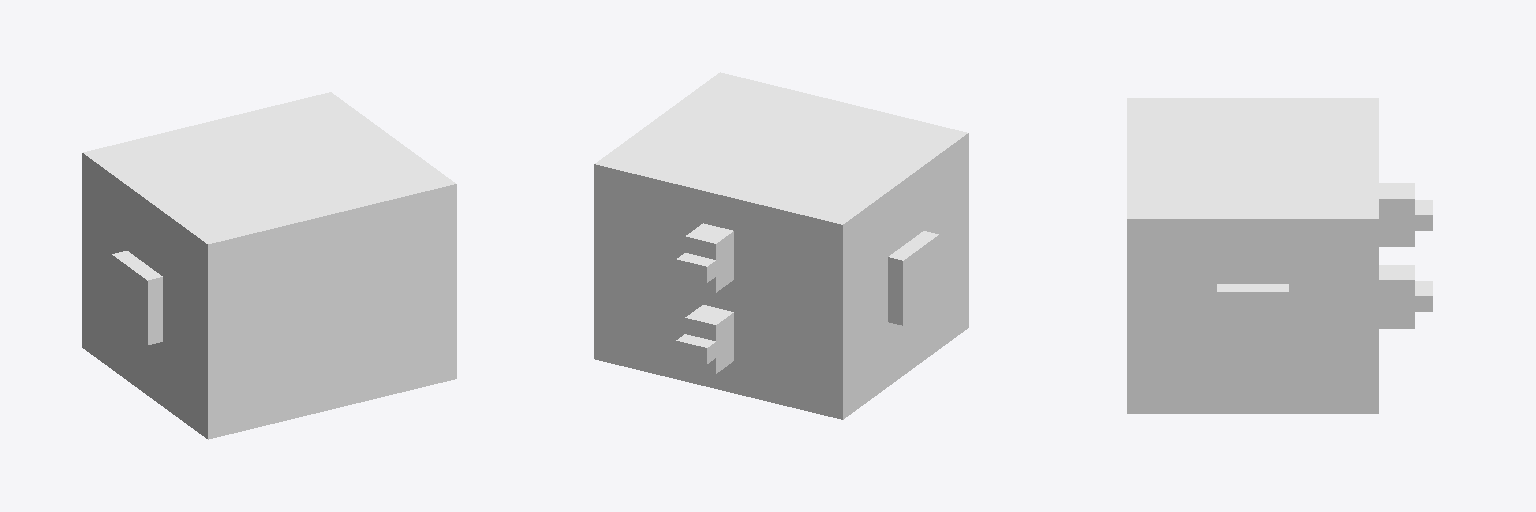
The model's file is Dragon_large-1.obj.
The picture shows the model from 3 angles: view 1: azimuth 30°, elevation 25°; view 2: azimuth 150°, elevation 25°; view 3: azimuth 270°, elevation 25°; orthographic projection.
Parts seen in each view (by area): view 1: object 1; view 2: object 1; view 3: object 1.
Part boxes in pixels (left/top/right/bottom): object 1: left=82, top=92, right=456, bottom=439; object 1: left=594, top=72, right=968, bottom=419; object 1: left=1127, top=98, right=1432, bottom=413.
Size of the model in its own units: 1.8 by 1.2 by 1.7.